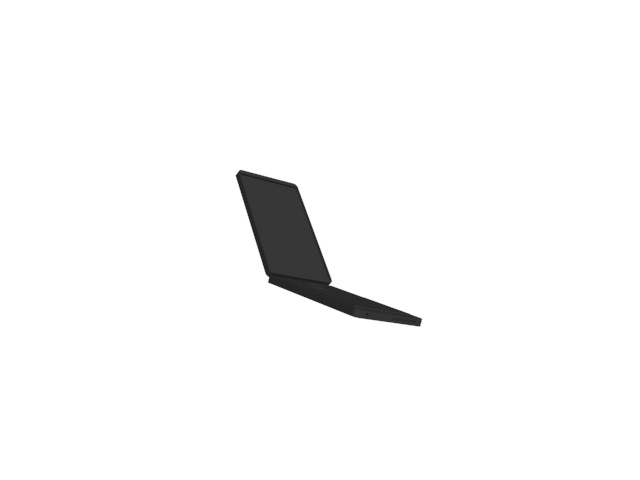mobile_phone: (233, 169, 424, 328)
